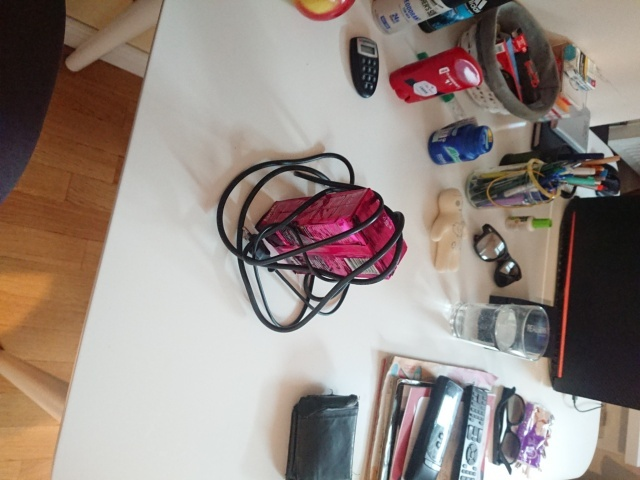Barcaffe Classic Original 225g: (253, 186, 410, 282)
